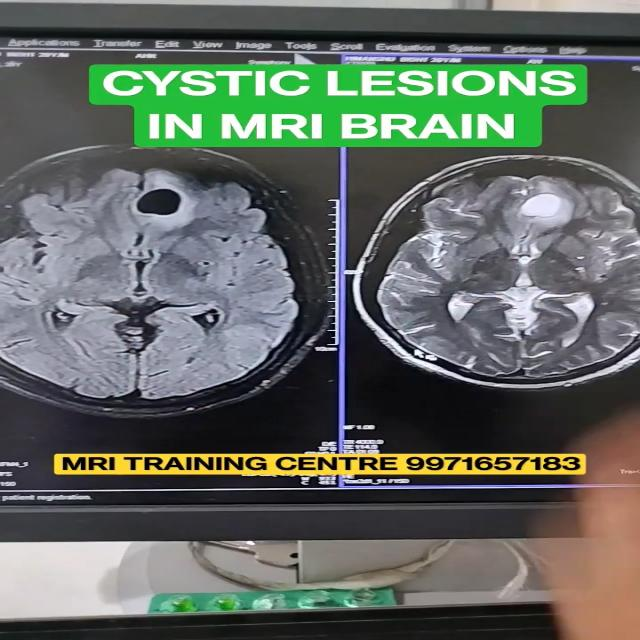tumor: (110, 192, 232, 247), (496, 185, 622, 236)
